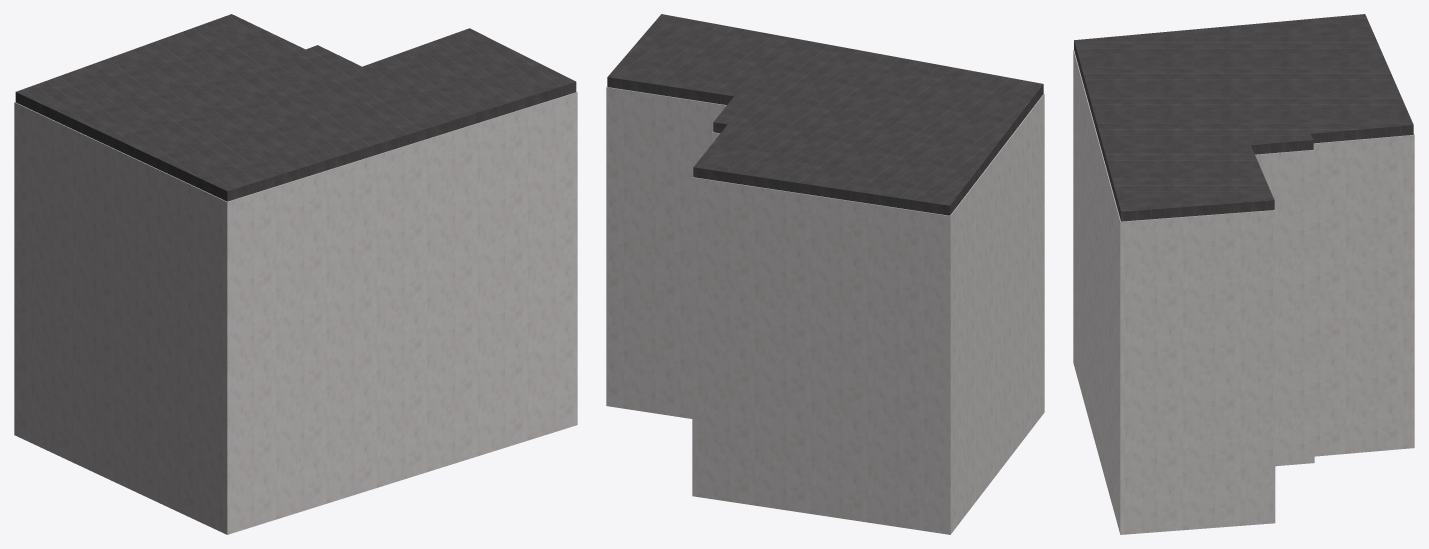
3 renders of one model, left to right at view 1: azimuth 30°, elevation 25°; view 2: azimuth 150°, elevation 25°; view 3: azimuth 270°, elevation 25°, orthographic. The views are drawn at different scales.
Visible parts, largest first — view 1: lmbase_501410388, lmbase_501410388_roof; view 2: lmbase_501410388, lmbase_501410388_roof; view 3: lmbase_501410388, lmbase_501410388_roof.
Part boxes in pixels (x1=…): lmbase_501410388: x1=14, y1=92, x2=577, y2=534; lmbase_501410388_roof: x1=15, y1=14, x2=576, y2=201; lmbase_501410388: x1=606, y1=86, x2=1044, y2=534; lmbase_501410388_roof: x1=607, y1=14, x2=1043, y2=215; lmbase_501410388: x1=1073, y1=49, x2=1414, y2=534; lmbase_501410388_roof: x1=1074, y1=14, x2=1413, y2=221.
Bounding box in the file's own units: 23.95 × 18.15 × 17.4.
Materials: 2 (2 with a texture image).
